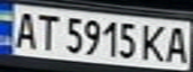1: (100, 18, 121, 58)
5: (115, 19, 142, 61), (60, 15, 84, 54)
9: (78, 16, 103, 56)
A: (9, 8, 39, 50), (163, 24, 193, 65)
K: (136, 21, 169, 63)
T: (33, 11, 60, 52)
